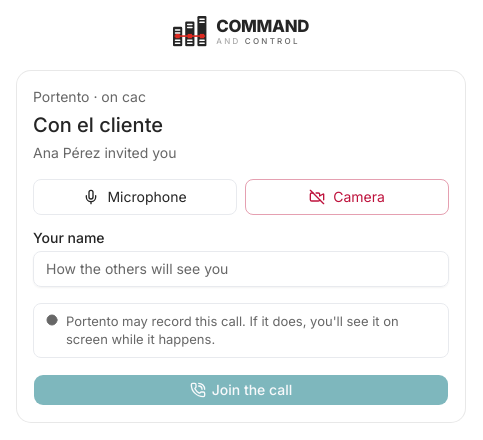
Test: la puerta del invitado › sin nombre no se entra
This screenshot has width=483, height=440.
expect the button "Join the call" is disabled: met, box [33,374,449,406]
In the field labelled "Your name": (241, 269) [33,251,449,287], type "  Carla "
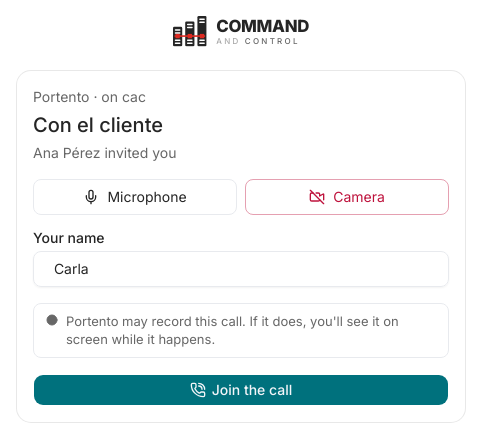
expect the button "Join the call" is enabled: met, box [33,374,449,406]
